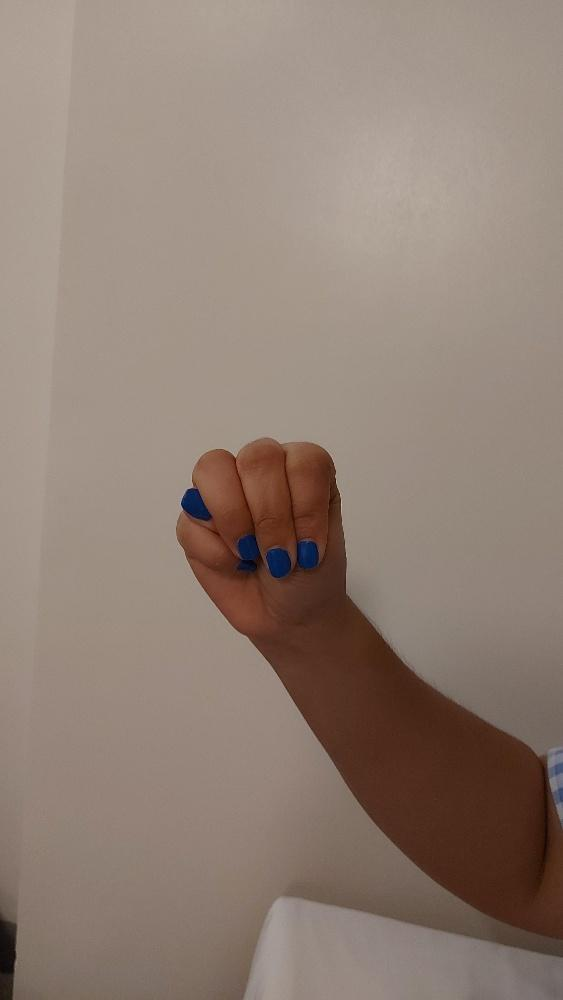m: (173, 433, 348, 637)
